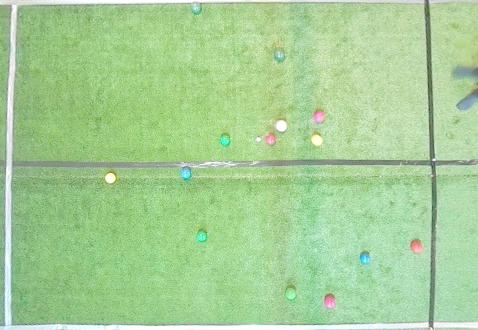blue: (180, 168, 191, 180), (360, 254, 370, 265)
green: (274, 49, 285, 62), (285, 288, 296, 300), (197, 231, 207, 242), (220, 135, 230, 146), (191, 3, 201, 14)
red: (324, 296, 336, 309), (411, 241, 422, 254), (314, 111, 325, 123), (276, 120, 287, 132), (266, 135, 276, 145)
vline: (424, 0, 477, 329), (0, 0, 21, 329)
white: (256, 137, 261, 142)
yellow: (311, 134, 323, 146), (105, 173, 116, 183)
